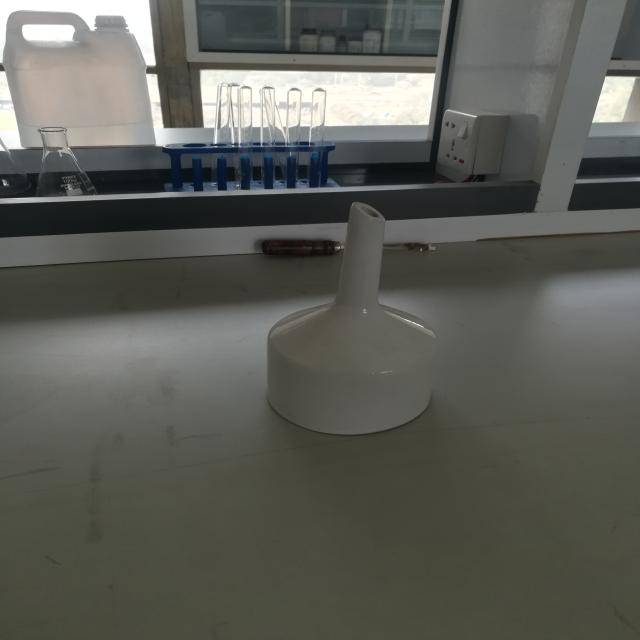Buchner_Funnel: (237, 165, 464, 461)
